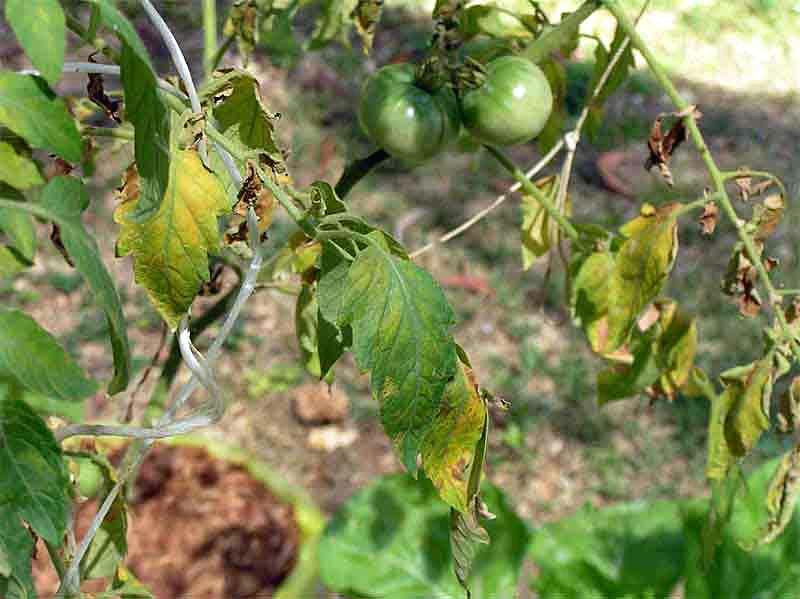Tomato mold leaf: (335, 245, 498, 538), (92, 135, 236, 348), (595, 203, 692, 346)
